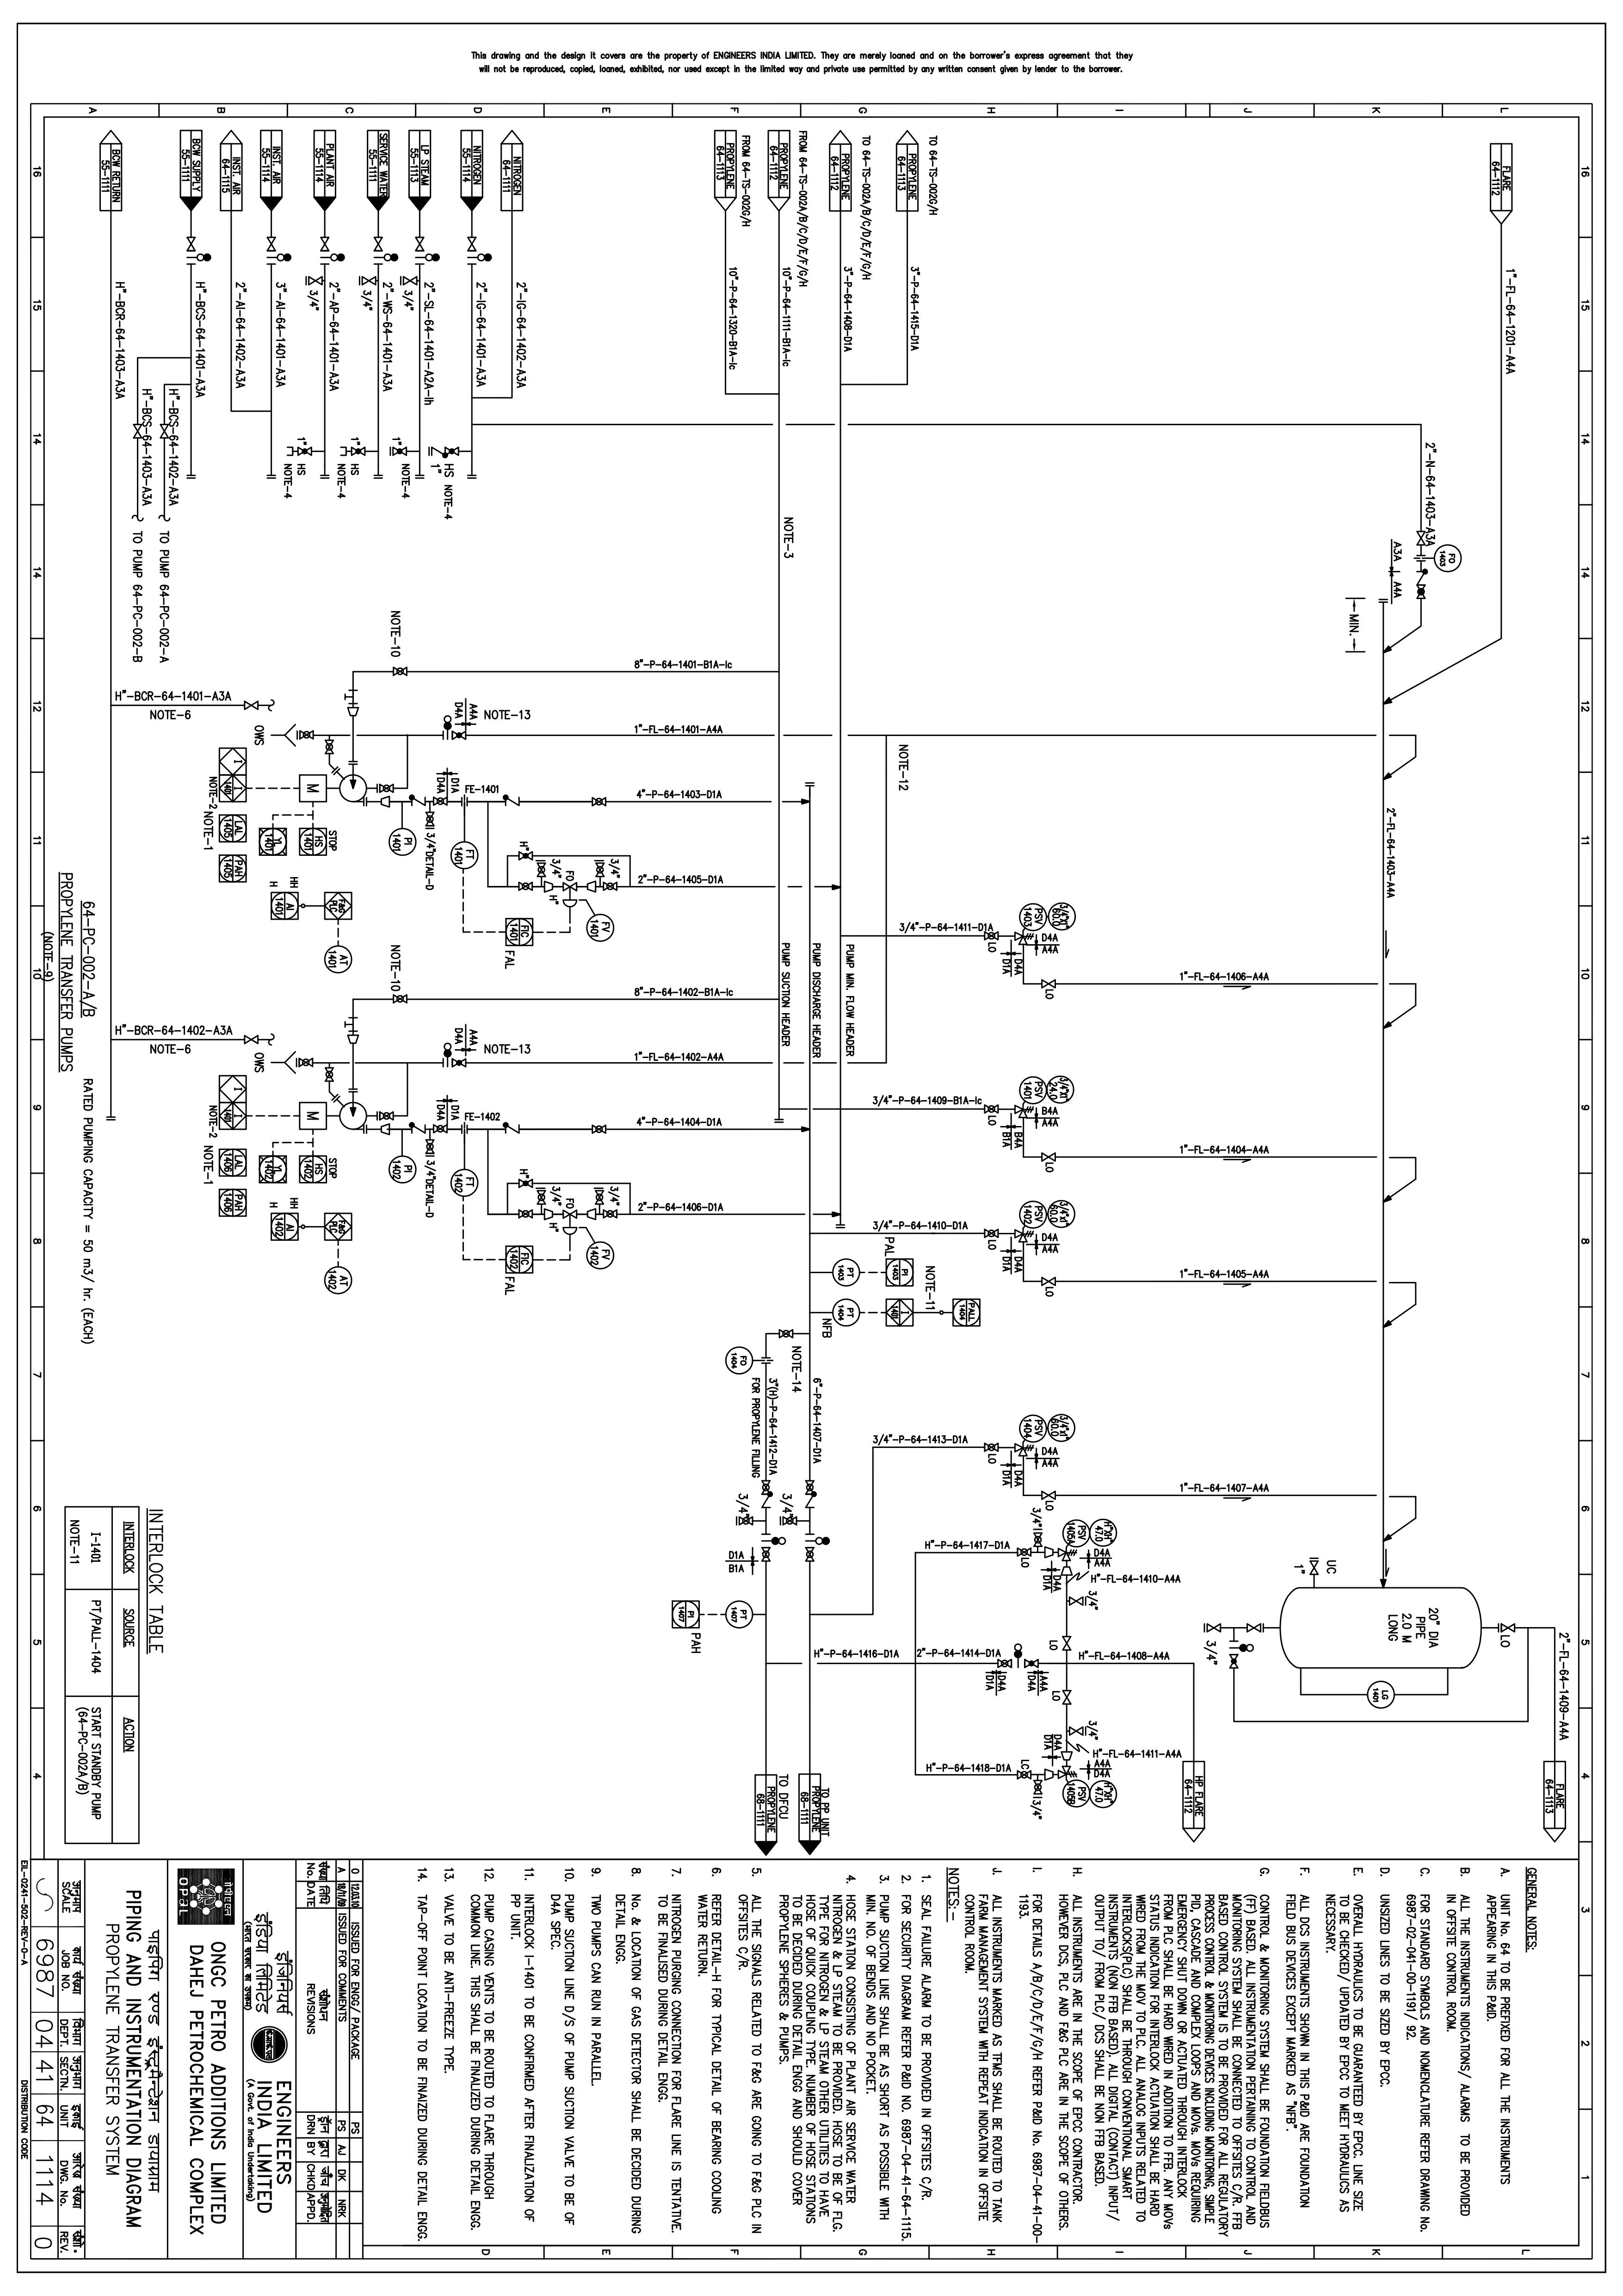ball valve: (334, 685, 364, 720), (423, 439, 465, 460), (1488, 1614, 1523, 1639), (1194, 1614, 1230, 1639), (757, 1477, 778, 1518), (332, 444, 378, 460), (803, 1476, 822, 1513), (371, 1103, 400, 1126), (494, 792, 529, 812), (1240, 1616, 1272, 1637), (385, 662, 415, 683), (583, 791, 610, 813), (1063, 1720, 1089, 1743), (181, 225, 198, 256), (395, 271, 422, 292), (1012, 1433, 1033, 1460), (1010, 1100, 1036, 1121), (588, 1182, 608, 1210), (1303, 1555, 1323, 1583), (578, 1123, 611, 1138), (285, 444, 321, 458), (260, 232, 279, 258), (293, 1054, 320, 1073), (320, 1061, 339, 1087), (1056, 1630, 1075, 1657), (978, 1439, 1005, 1458), (729, 1511, 757, 1528), (1010, 926, 1033, 947), (323, 734, 343, 759), (977, 1224, 1006, 1240), (499, 1121, 525, 1138), (1035, 1147, 1061, 1165), (372, 783, 400, 799), (1031, 1488, 1063, 1502), (408, 792, 429, 813), (420, 1135, 439, 1158), (559, 1203, 581, 1223), (1035, 1272, 1059, 1289), (1012, 1226, 1036, 1244), (235, 699, 265, 713), (592, 856, 608, 882), (599, 1209, 620, 1228), (408, 1121, 430, 1138), (515, 1205, 537, 1223), (1224, 1651, 1242, 1674), (299, 274, 327, 288), (1033, 977, 1061, 991), (316, 228, 332, 253), (371, 232, 386, 256), (237, 1031, 262, 1047), (773, 1516, 804, 1528), (559, 898, 583, 913), (130, 422, 148, 443), (156, 423, 174, 444), (293, 729, 320, 743), (327, 761, 344, 782), (355, 792, 372, 813), (386, 993, 413, 1007), (341, 1029, 362, 1047), (578, 1205, 599, 1223), (413, 232, 429, 255), (1031, 1776, 1047, 1799), (1066, 1593, 1089, 1609), (1012, 1546, 1035, 1562), (980, 928, 1003, 943), (513, 878, 536, 894), (560, 882, 583, 898), (385, 446, 413, 458), (991, 1658, 1019, 1671), (376, 1121, 395, 1138), (534, 1184, 550, 1205), (776, 1325, 797, 1340), (511, 850, 537, 863), (511, 1177, 537, 1189), (978, 1103, 1005, 1116), (355, 274, 378, 288), (804, 1546, 819, 1569), (355, 1121, 371, 1140), (537, 1207, 553, 1226), (1042, 1767, 1057, 1787), (541, 877, 557, 896), (467, 232, 480, 256), (1061, 1686, 1073, 1711), (1013, 1769, 1035, 1783), (450, 729, 469, 743), (759, 1544, 773, 1563), (564, 1224, 580, 1240), (451, 1061, 471, 1073), (1061, 1767, 1078, 1780), (759, 1351, 776, 1363), (1063, 1748, 1073, 1767), (467, 473, 481, 487), (346, 1084, 358, 1100), (327, 1091, 339, 1107), (833, 1221, 850, 1231), (346, 759, 360, 771), (1035, 938, 1043, 956), (771, 1116, 785, 1126), (1005, 950, 1021, 959), (1031, 1110, 1042, 1121), (1006, 1123, 1017, 1131), (938, 1307, 945, 1318)
